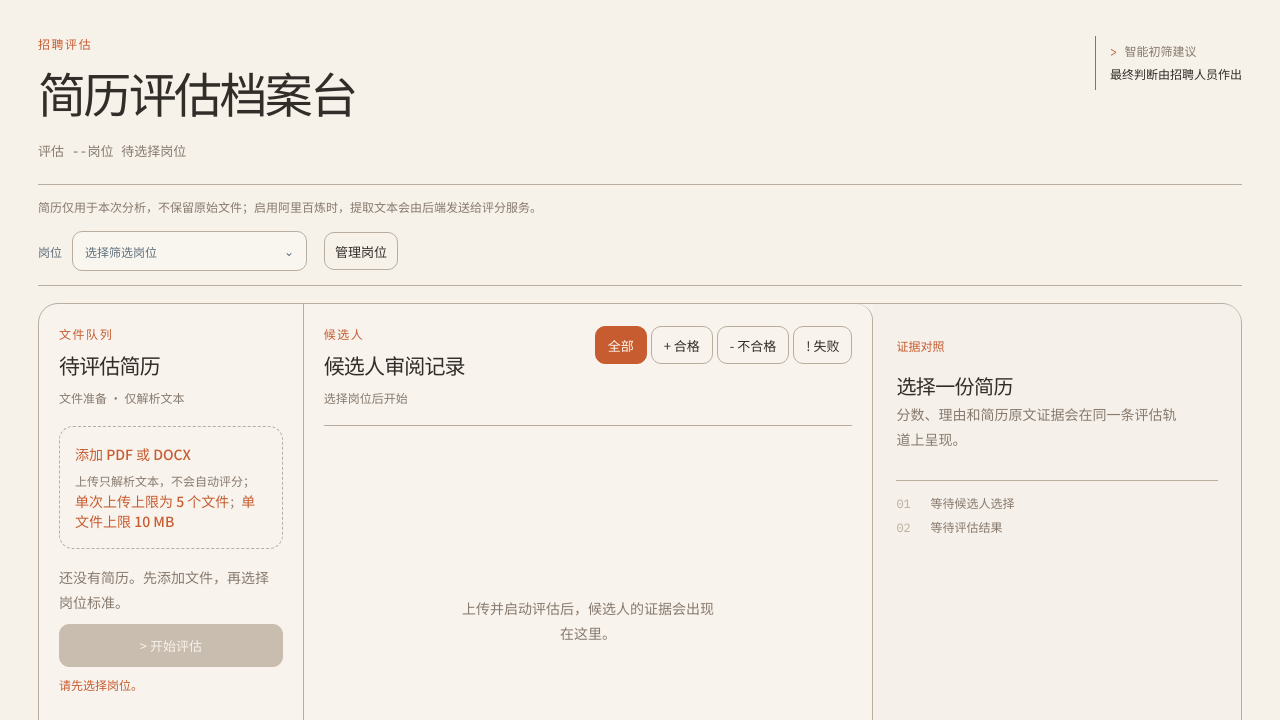
Scenario: recruiter workbench › opens a role form with the documented default score
Click the button "管理岗位".
click(361, 251)  # box [324,232,398,270]
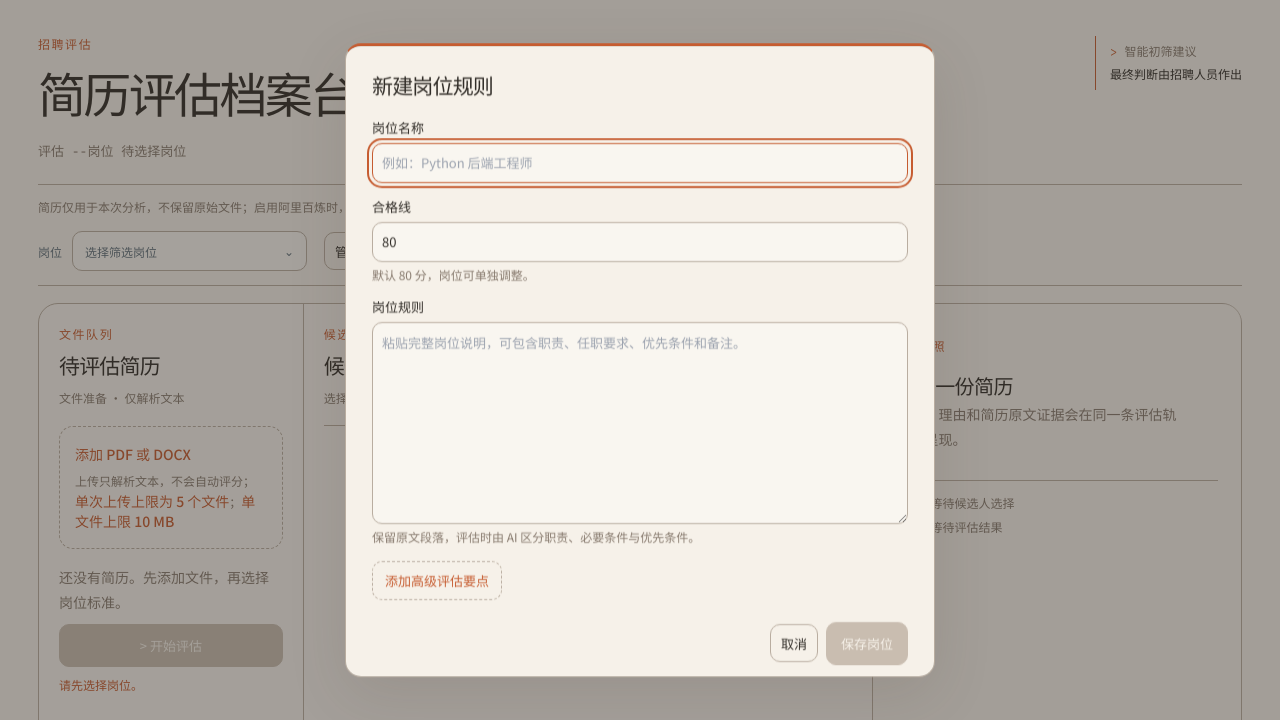
Result: the number field labelled "合格线 默认 80 分，岗位可单独调整。" holds "80" at [372,222,908,262]
Result: the text "默认 80 分，岗位可单独调整。" is shown at [372,266,535,283]
